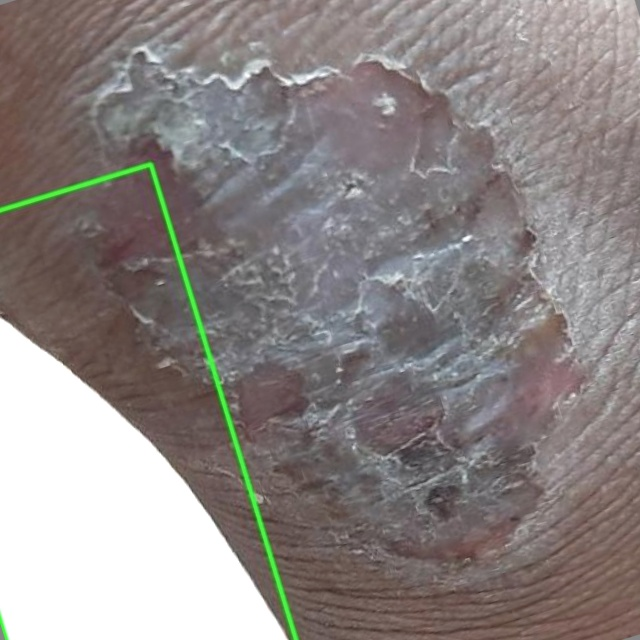Contact Dermatitis: (0, 164, 296, 639)
